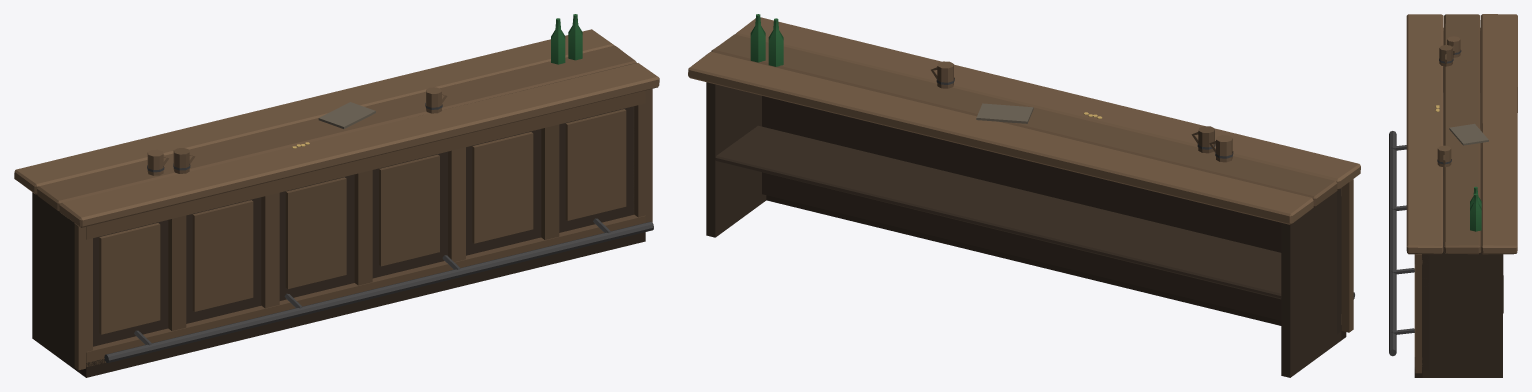
File: bar_counter.glb
3 views of the same model, side by side, from view 1: azimuth 30°, elevation 25°; view 2: azimuth 150°, elevation 25°; view 3: azimuth 270°, elevation 25° (orthographic). The views are drawn at different scales.
Parts seen in each view (by area): view 1: bar_counter; view 2: bar_counter; view 3: bar_counter.
Part boxes in pixels (x1,y1,x2,y2): bar_counter: [14, 14, 659, 377]; bar_counter: [688, 14, 1360, 377]; bar_counter: [1389, 14, 1517, 377].
Size of what is drawn, in the model's own units: 4.05 by 1.38 by 0.9467.
